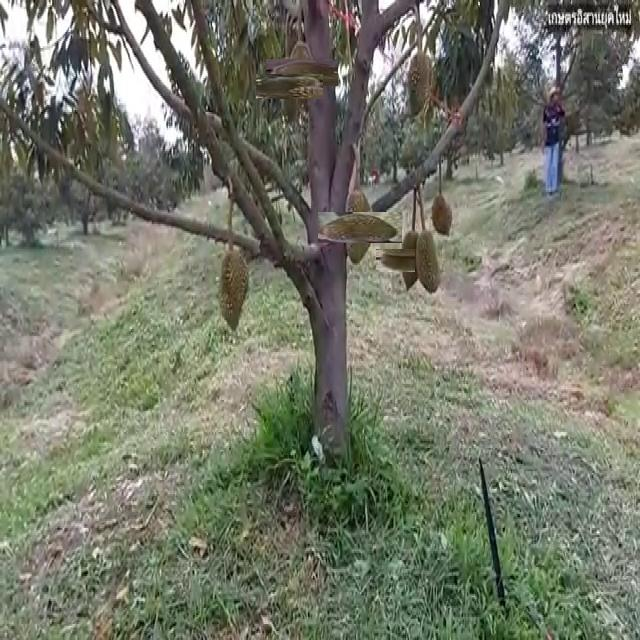durian: (331, 198, 389, 256), (216, 246, 250, 334), (277, 47, 327, 97), (388, 237, 434, 284), (266, 64, 313, 110), (415, 224, 442, 299), (406, 48, 432, 122), (429, 188, 454, 240)
